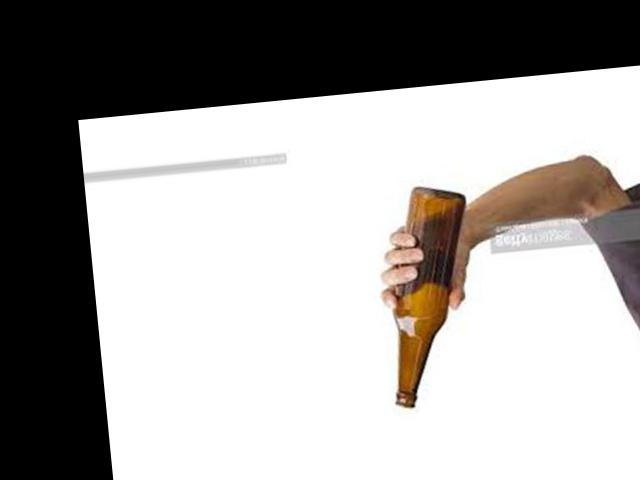beer: (375, 183, 487, 408)
